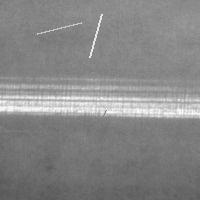scratches: (1, 85, 198, 119), (85, 9, 107, 62), (32, 18, 86, 39), (85, 105, 111, 143)
